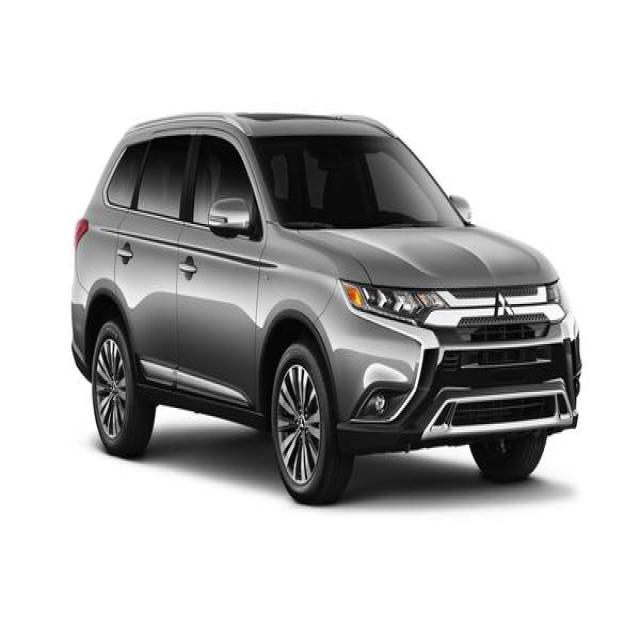light_vehicle: (71, 111, 584, 505)
